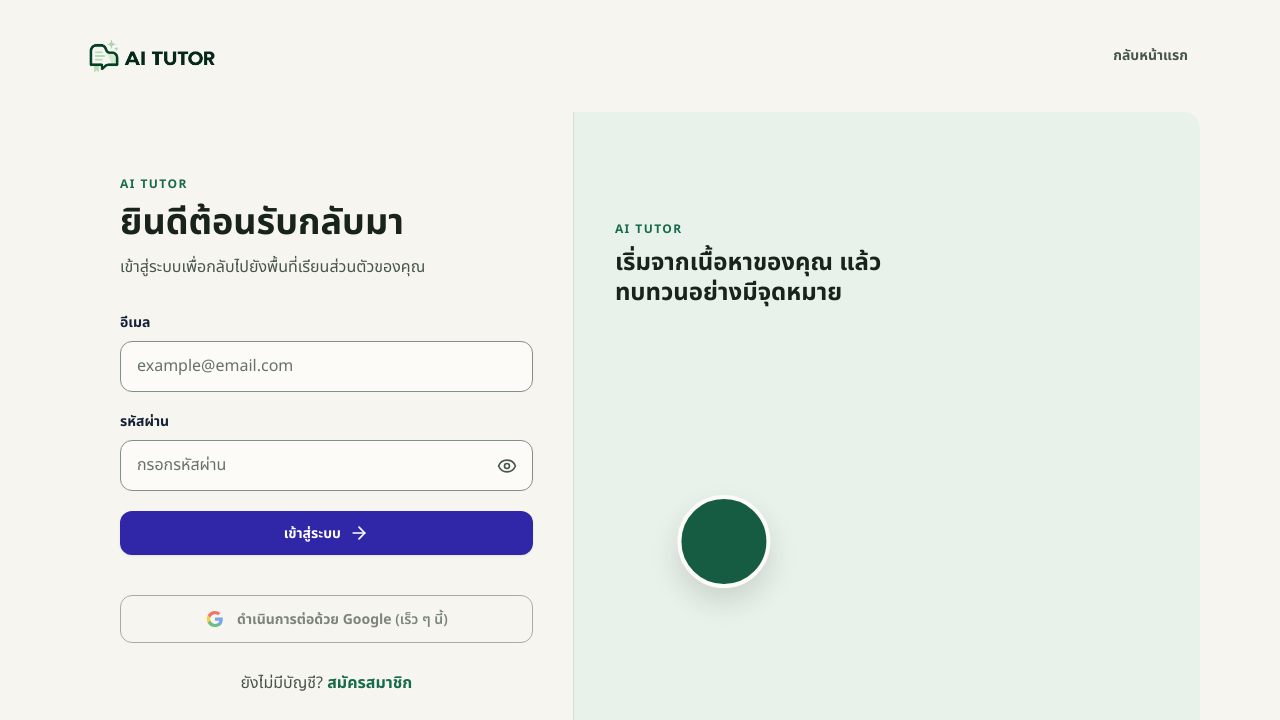
Test case: LoginPage › reveals and hides the login password without clearing its value
The image size is (1280, 720).
Type "learning123" into the password field labelled "รหัสผ่าน" at point(326, 466), box top-left (120, 440), bottom-right (533, 491)
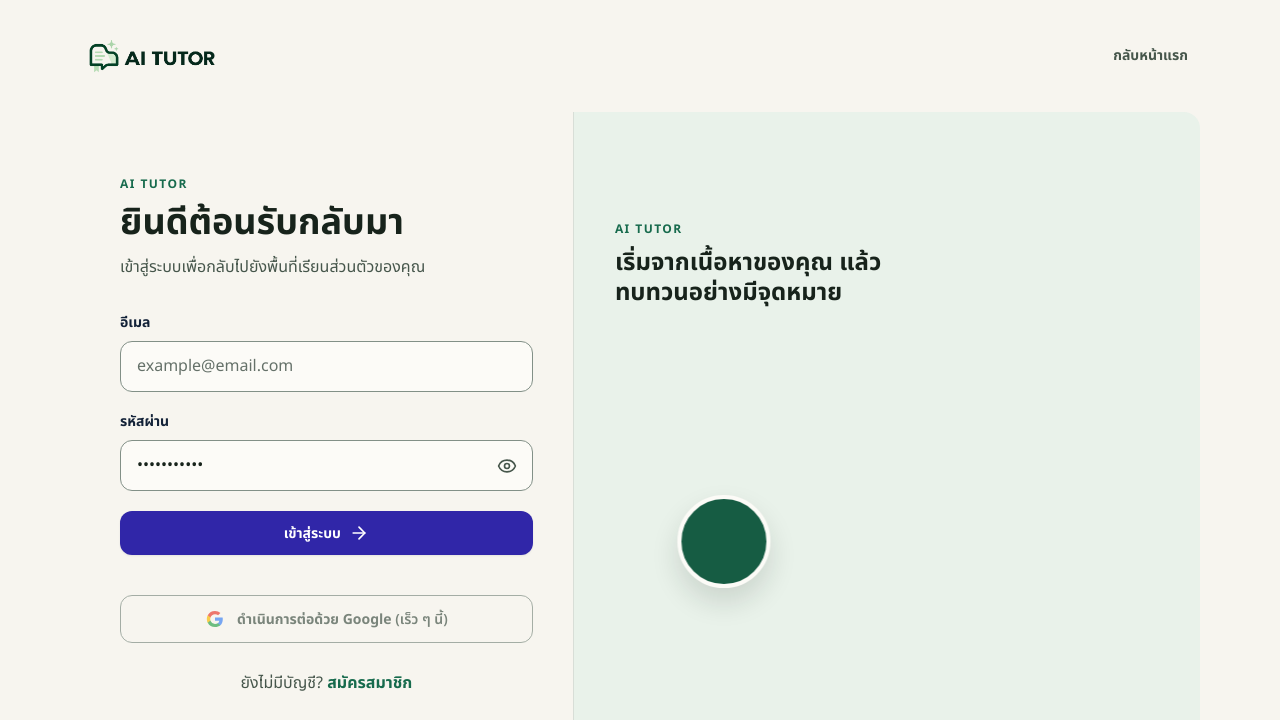
Click the button named "แสดงรหัสผ่าน" at point(507, 466), box top-left (485, 444), bottom-right (529, 488)
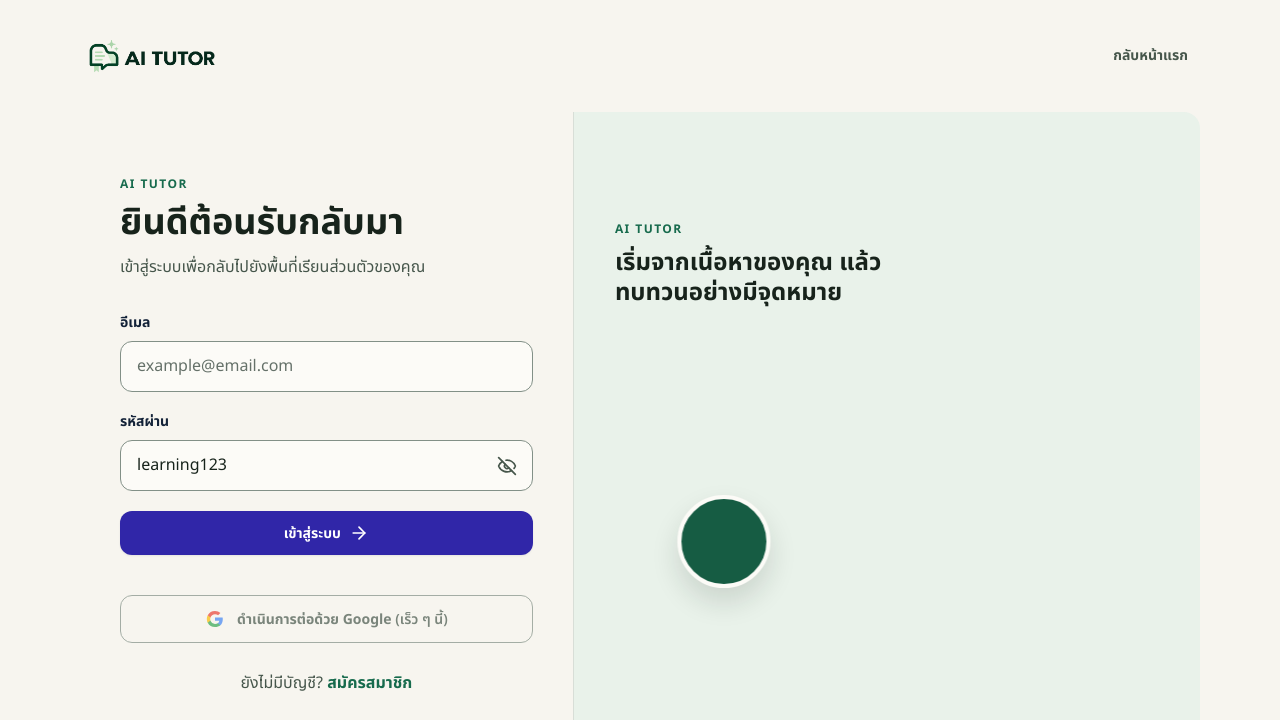
Check: the field labelled "รหัสผ่าน" shows its text, box top-left (120, 440), bottom-right (533, 491)
Check: the button named "ซ่อนรหัสผ่าน" is shown
Click the button named "ซ่อนรหัสผ่าน" at point(507, 466), box top-left (485, 444), bottom-right (529, 488)
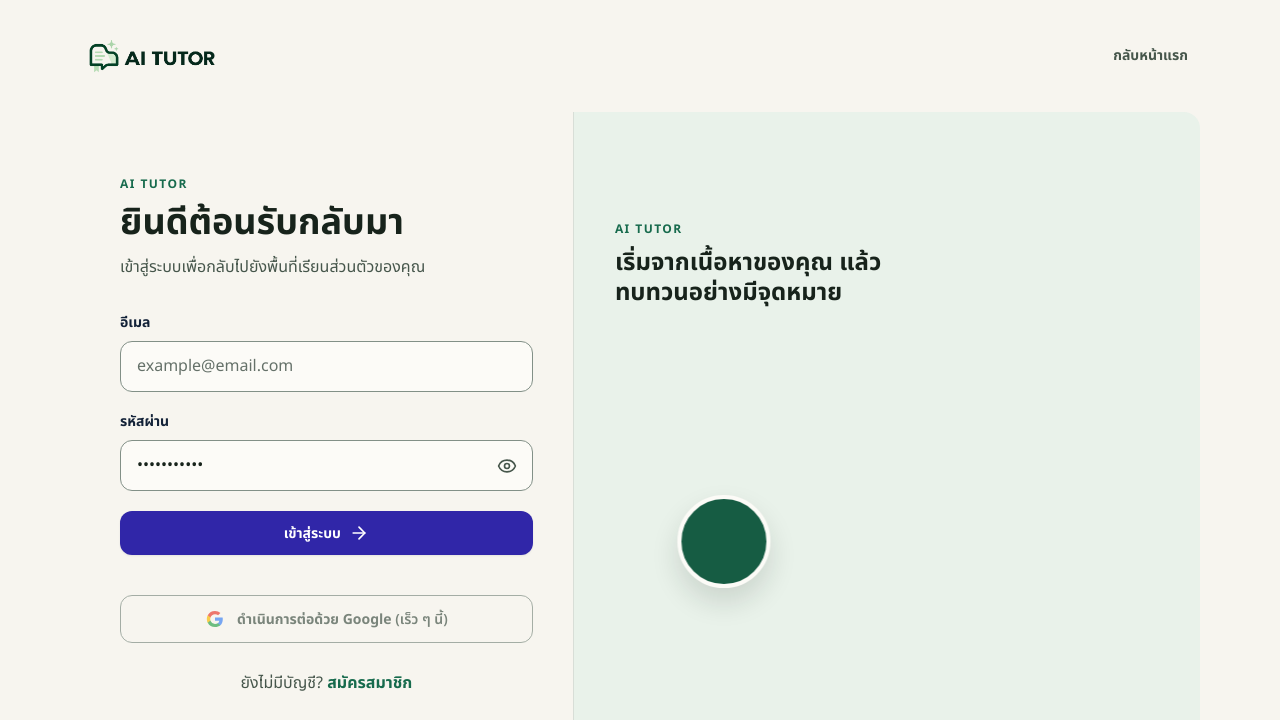
Check: the password field labelled "รหัสผ่าน" hides its text, box top-left (120, 440), bottom-right (533, 491)
